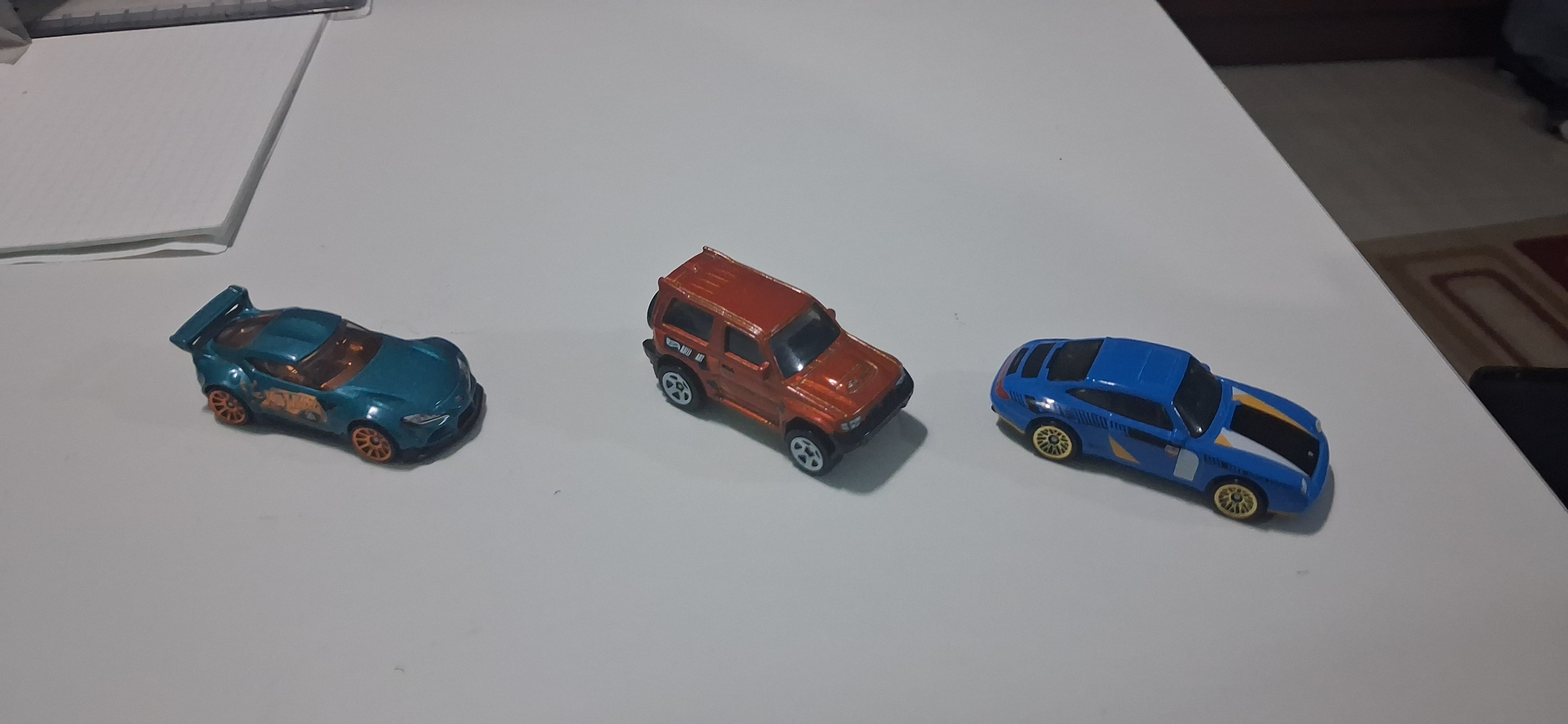Mitsubishi_Pajero_Evolution: (622, 221, 925, 515)
Porsche_Carrera: (965, 276, 1341, 568)
Toyota_GR_Supra: (113, 237, 521, 479)
